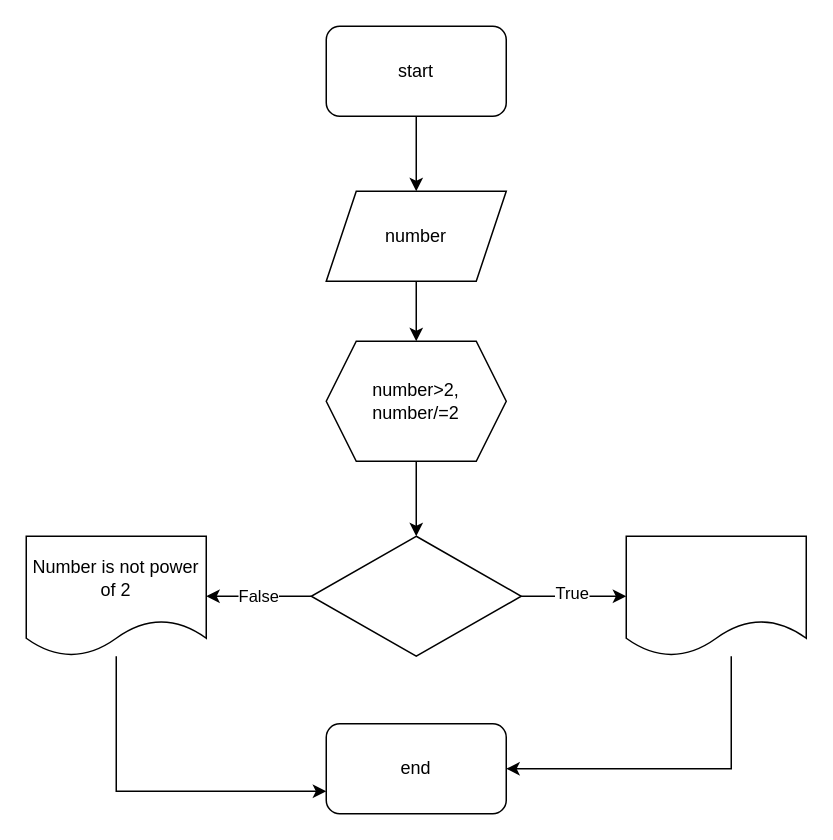
This 833x840 diagram has some shape labels left out. Each missing label, with the box of its shape:
Number is power of 2: (625, 535, 806, 656)
number==2 || number==1: (310, 535, 521, 656)
